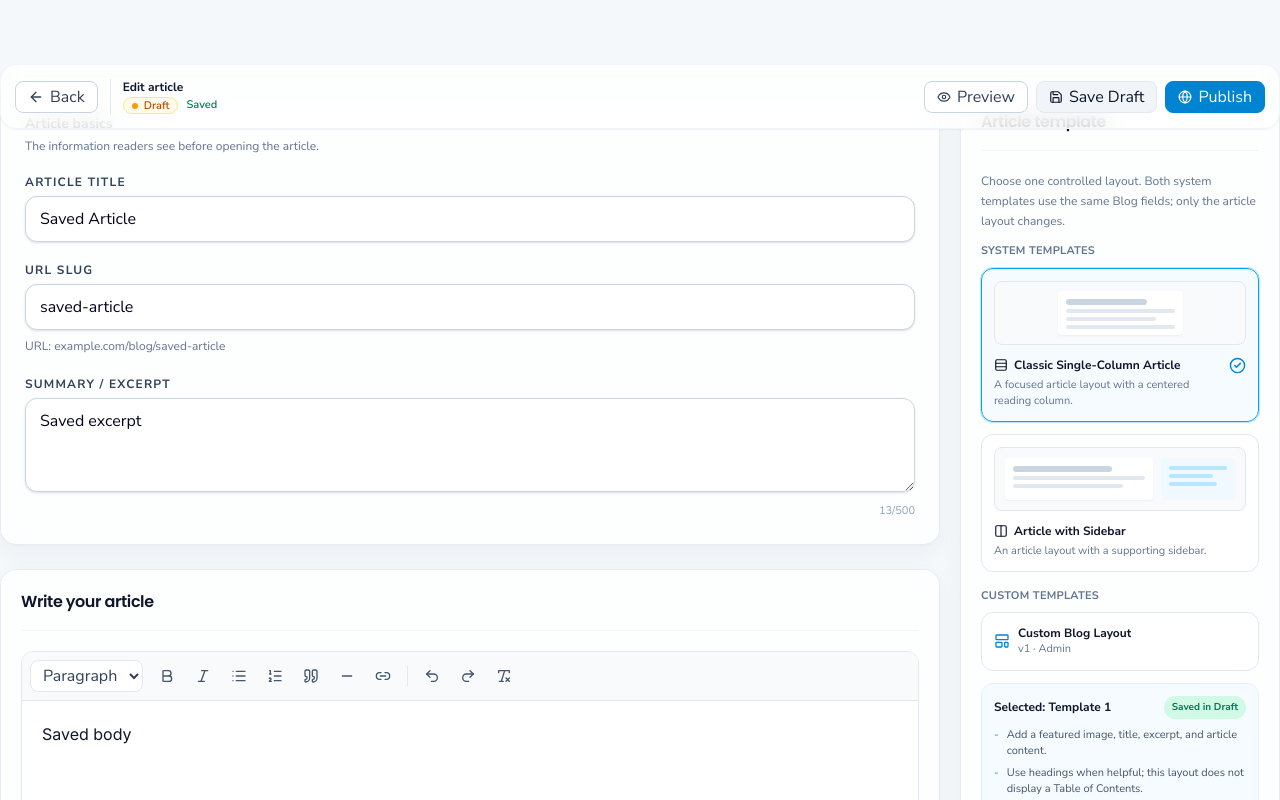
BlogForm template instructions and persistence confirmation › reports when the backend response does not confirm the selected template
Step 1. Click the radio button labelled "Article with Sidebar" → click(1120, 502), box left=981, top=434, right=1259, bottom=572
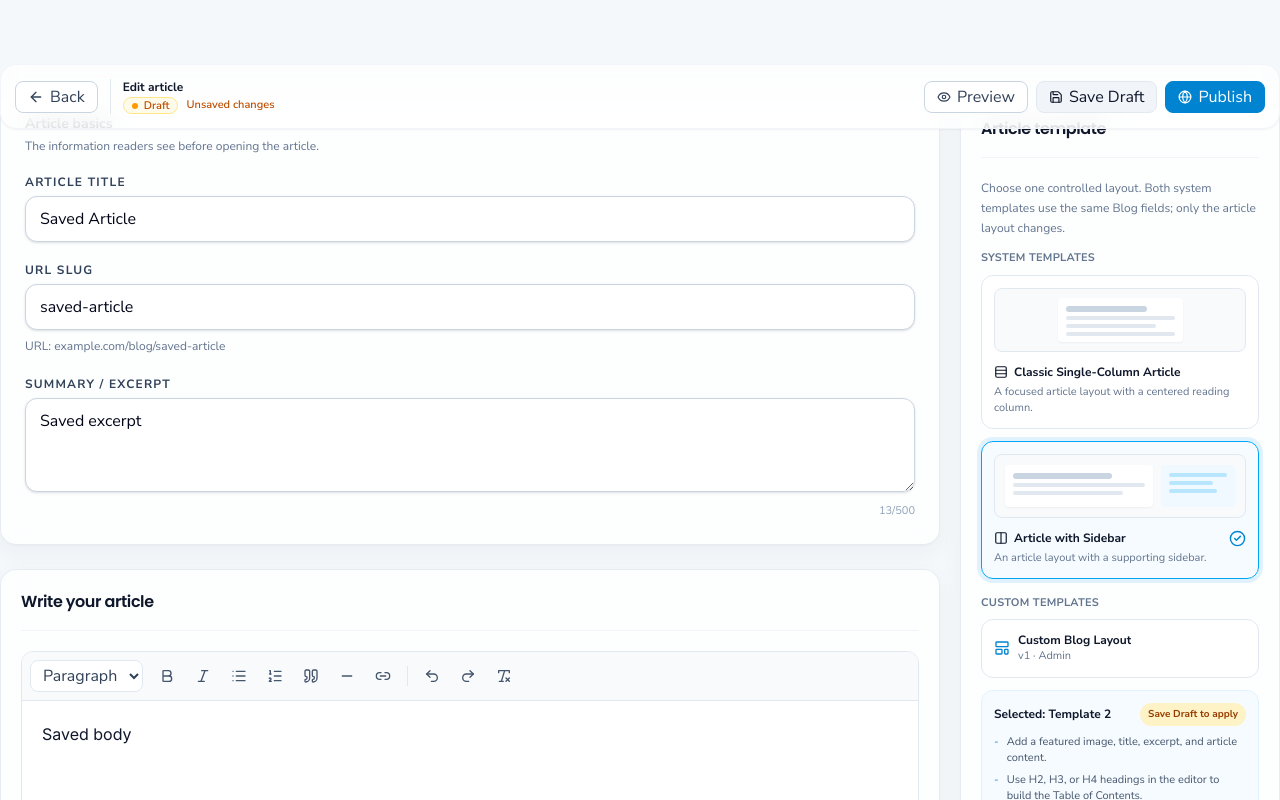
Step 2. Click the button "Save Draft" → click(1097, 96), box left=1036, top=80, right=1157, bottom=112
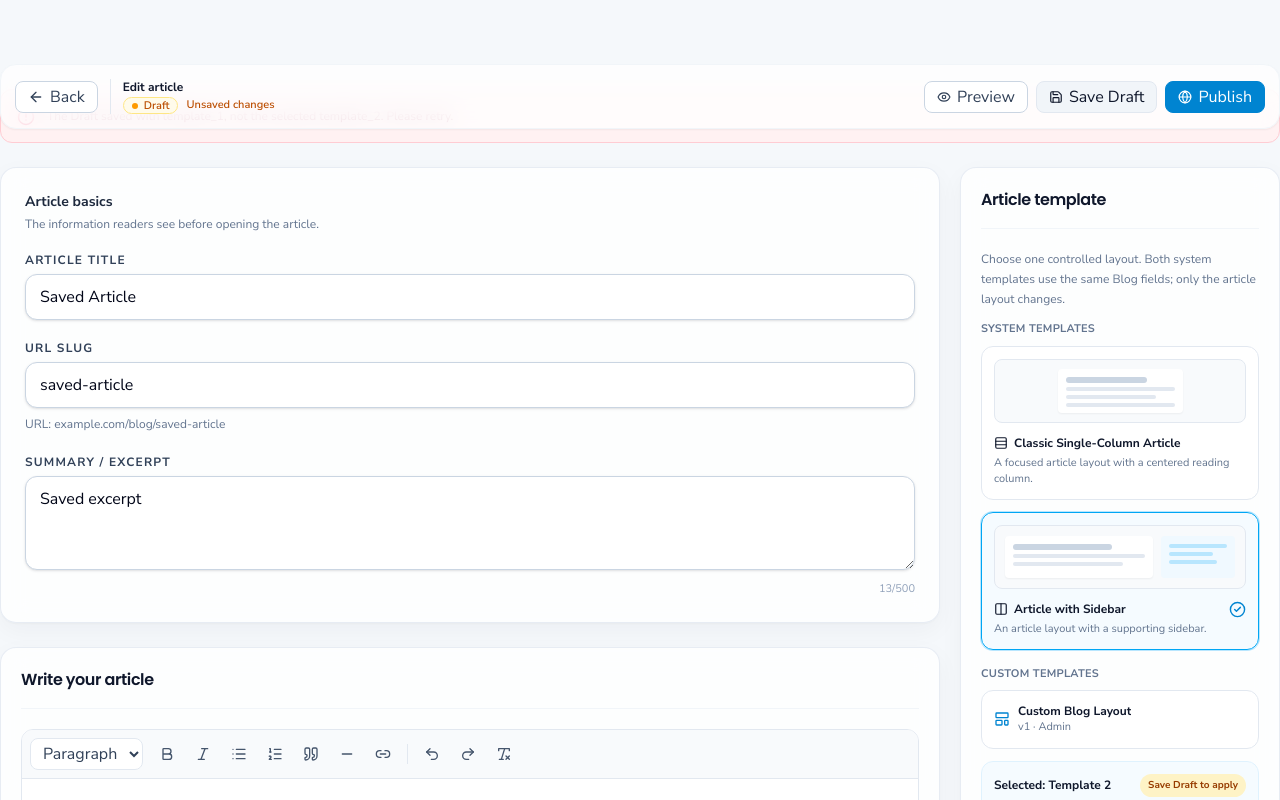
Expected: the text "Save Draft to apply" is shown, left=1140, top=774, right=1246, bottom=796
Expected: the message shows "not the selected template_2", left=47, top=108, right=453, bottom=124
